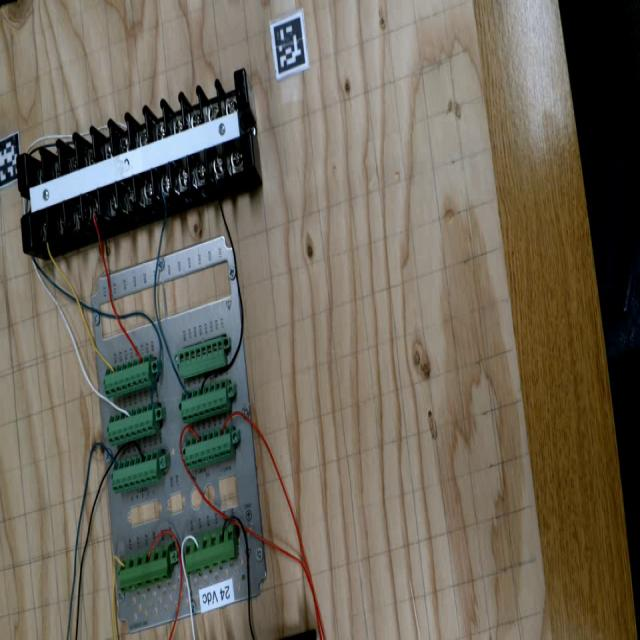Phillips_Block: (0, 68, 279, 256)
Terminal_1: (175, 524, 246, 579), (112, 546, 177, 594)
Terminal_2: (177, 425, 239, 471), (174, 379, 236, 425), (101, 402, 162, 447), (98, 355, 159, 399), (106, 451, 166, 495)
